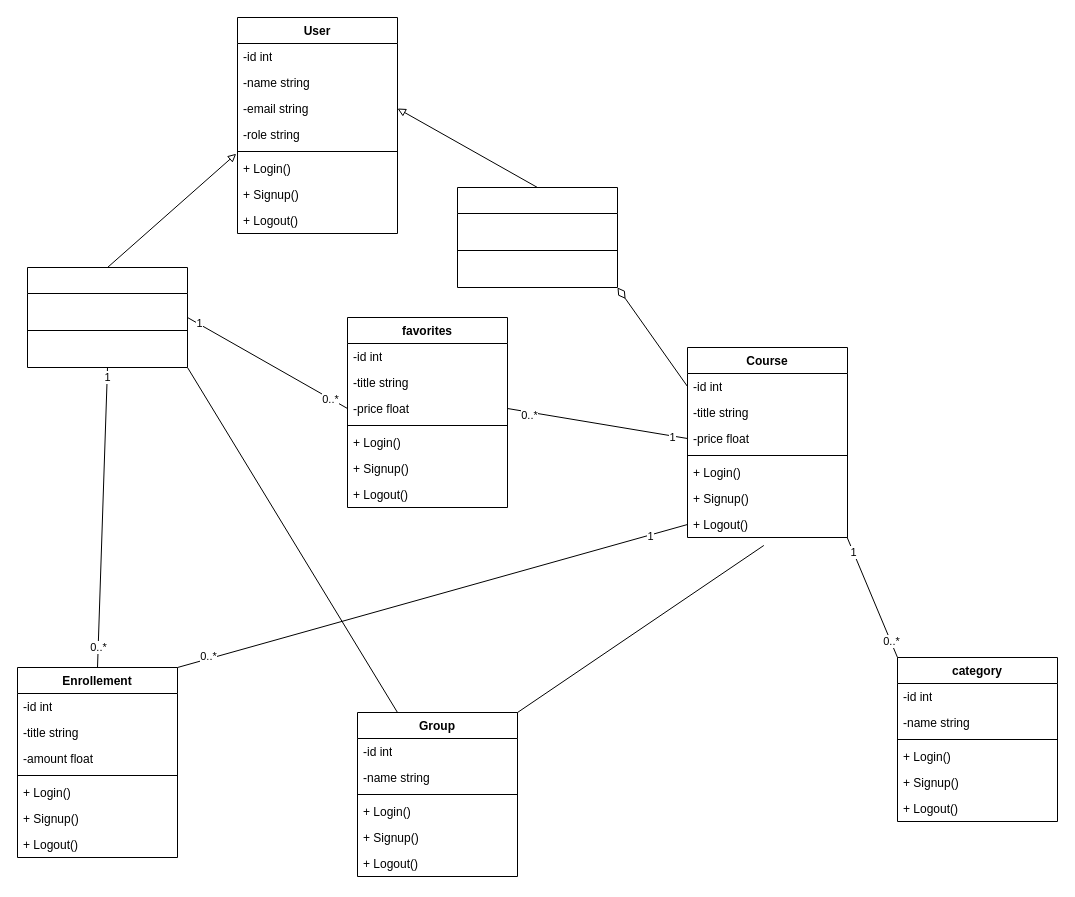
Some shapes in this 1075 by 897 pixel diagram are drawn without their labels. The shapes that lost their labels are listed below. From the top down, each one's centre as x and y in pixels, then its label:
pixel 537 237: Teacher
pixel 107 317: etudiant
